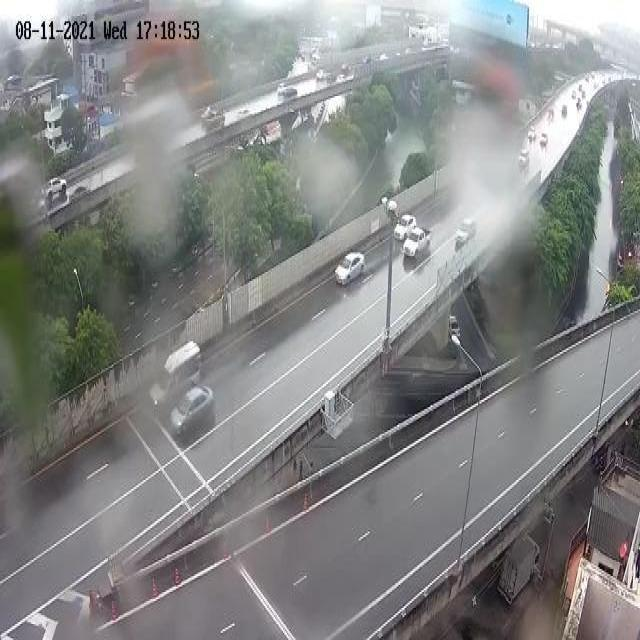Car: (170, 385, 215, 439), (334, 249, 366, 287), (455, 217, 477, 248), (394, 214, 416, 242), (448, 314, 462, 339), (519, 148, 530, 166), (282, 86, 298, 98), (236, 108, 250, 120), (528, 127, 538, 141), (316, 68, 326, 81), (278, 84, 288, 96), (539, 133, 548, 146), (339, 63, 349, 74), (336, 74, 345, 80)
Truck: (402, 224, 432, 261), (42, 177, 67, 202), (69, 185, 90, 201)
Van: (148, 340, 202, 416)
